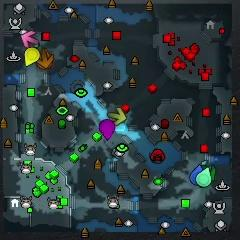p1: (190, 165, 203, 186)
p2: (196, 167, 212, 187)
p3: (99, 120, 115, 139)
p4: (24, 48, 39, 66)
p5: (37, 48, 52, 70)
x1: (21, 30, 39, 48)
x2: (108, 108, 126, 125)
x4: (203, 165, 216, 183)
x5: (38, 50, 54, 68)
